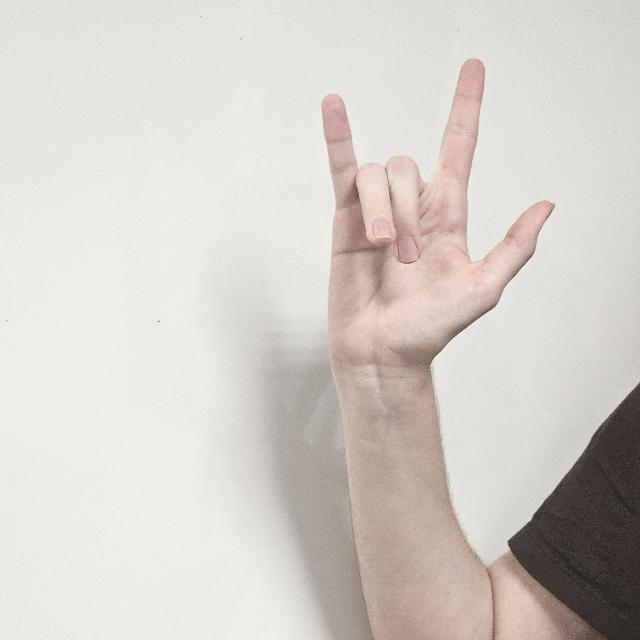Cima: (317, 51, 553, 375)
